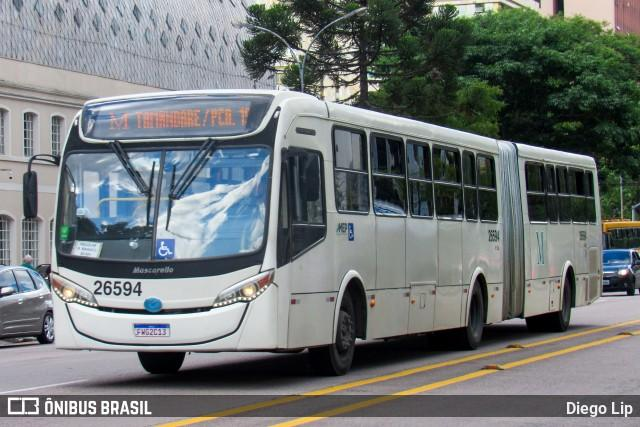TAMANDARE: (135, 106, 204, 131)
